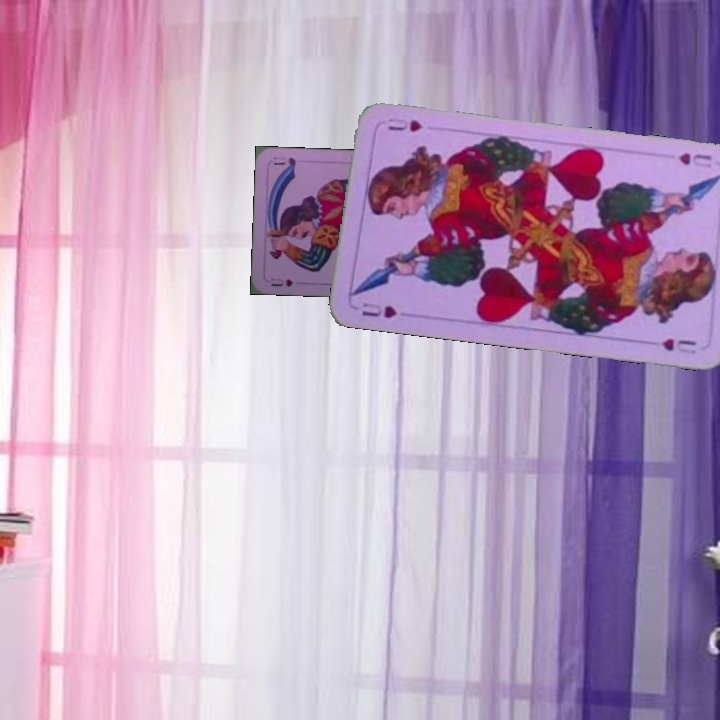HU: (358, 298, 400, 321), (674, 149, 715, 167)
SU: (266, 274, 295, 289)
